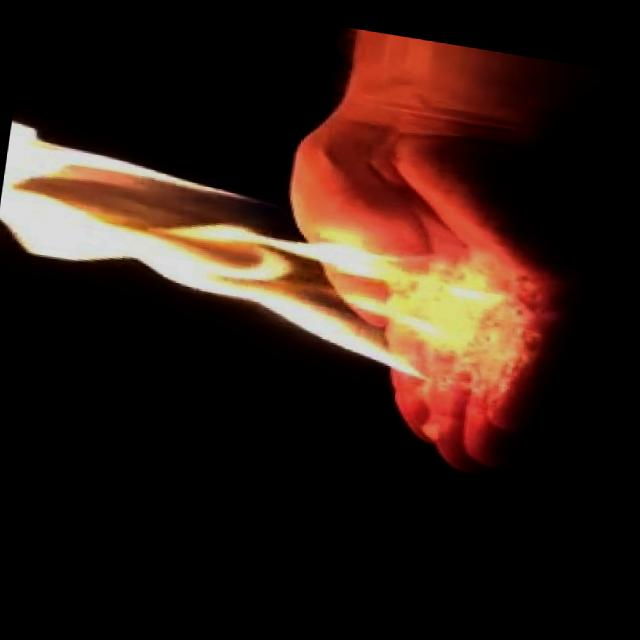helmet: (0, 118, 514, 392)
